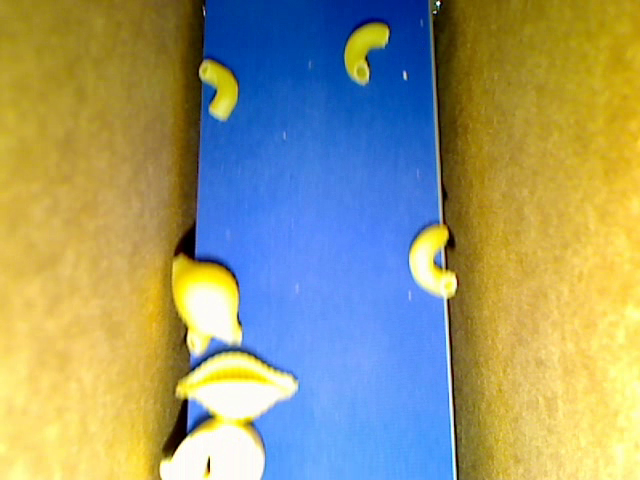elbow: (407, 223, 458, 302), (344, 22, 389, 88), (198, 59, 238, 122), (186, 325, 212, 356)
shell: (174, 352, 299, 423), (171, 253, 242, 346)
tortellini: (158, 416, 266, 479)
